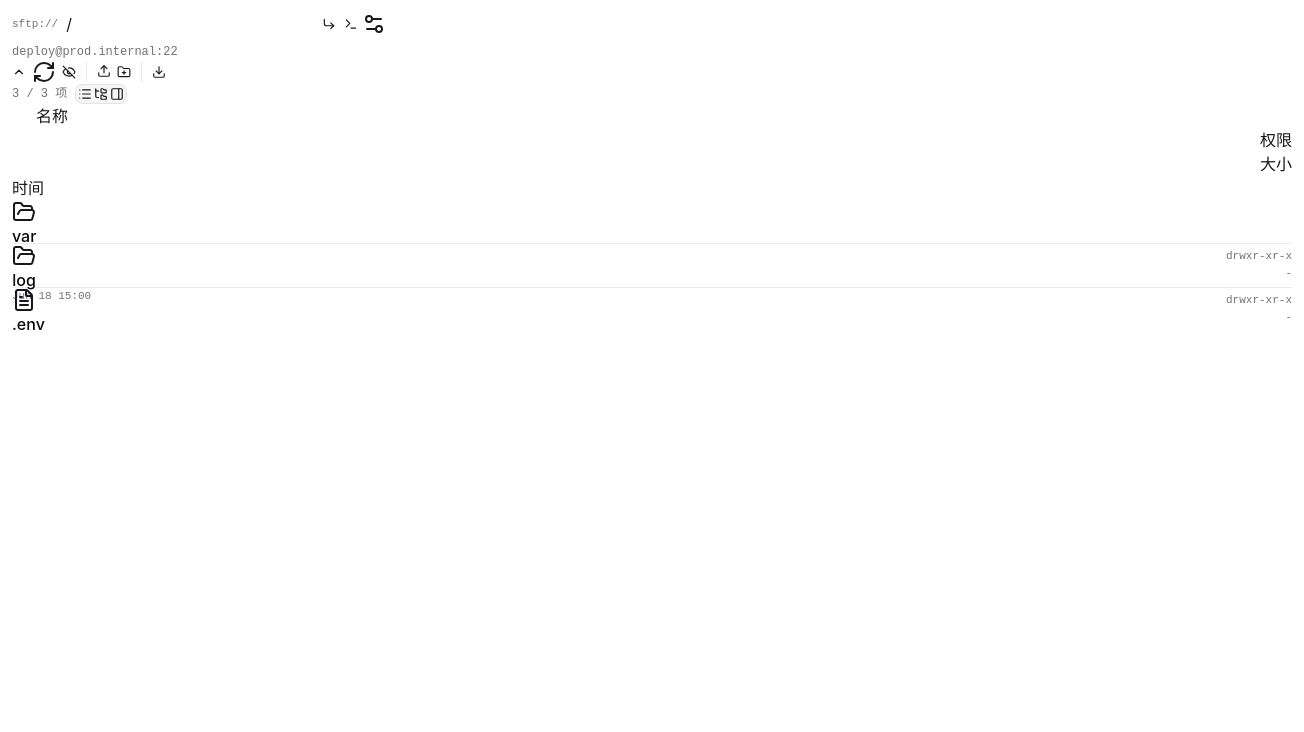
Test: SftpToolContent central file workspace replacement › routes old directory workspace actions to the right-panel workspace mode
Check: the text "var" is shown, box [12,226,36,246]
Right-click the button with aria-label "打开目录 var" at (24, 224), box [12,200,36,248]
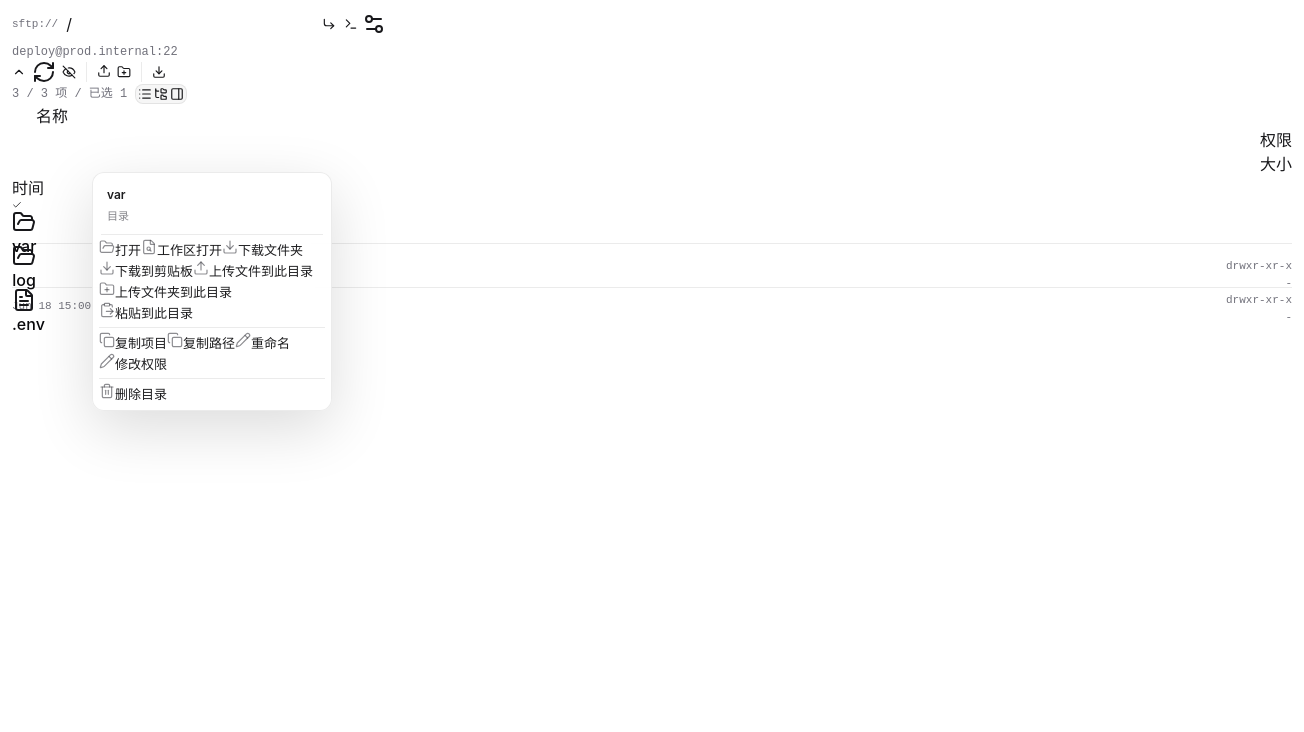
Click the menu item "工作区打开" at (182, 250), box [141,239,222,260]
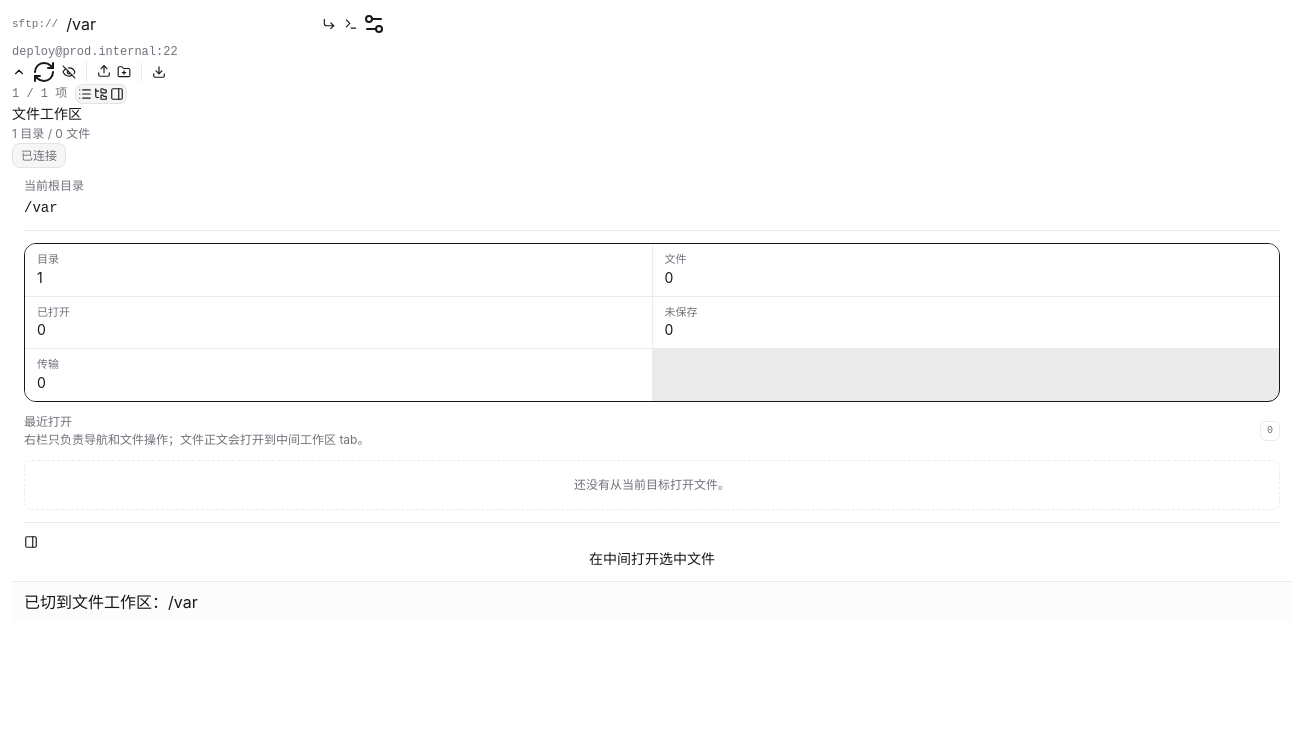
Check: the text "文件工作区" is shown, box [12,105,82,122]
Check: the text "当前根目录" is shown, box [24,178,84,193]
Check: the text "/var" is shown, box [24,200,58,216]
